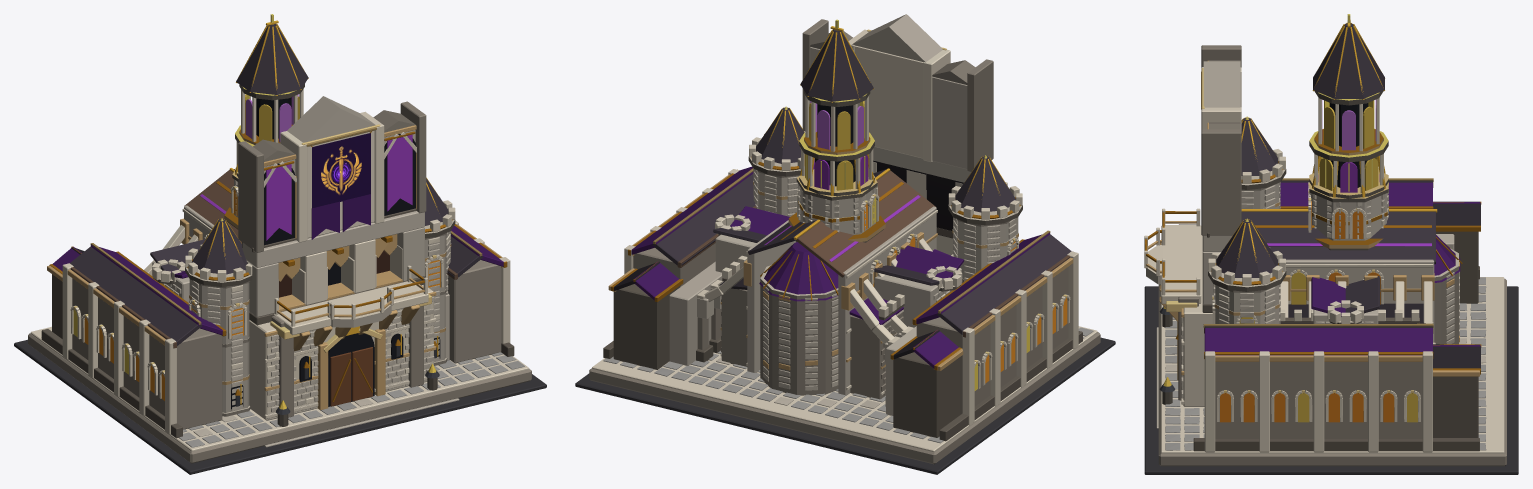
3 renders of one model, left to right at view 1: azimuth 30°, elevation 25°; view 2: azimuth 150°, elevation 25°; view 3: azimuth 270°, elevation 25°, orthographic. The views are drawn at different scales.
Visible parts, largest first — view 1: WK_GrandCovenantCathedral_LOD0_High_Architecture, WK_GrandCovenantCathedral_LOD0_High_CanonicalEmblem; view 2: WK_GrandCovenantCathedral_LOD0_High_Architecture; view 3: WK_GrandCovenantCathedral_LOD0_High_Architecture.
Part boxes in pixels (x1,y1,x2,y2): WK_GrandCovenantCathedral_LOD0_High_Architecture: (14,14,546,474); WK_GrandCovenantCathedral_LOD0_High_CanonicalEmblem: (312,133,370,208); WK_GrandCovenantCathedral_LOD0_High_Architecture: (575,14,1115,474); WK_GrandCovenantCathedral_LOD0_High_Architecture: (1144,14,1518,474).
Bounding box in the file's own units: 34 × 31.5 × 29.02.
2 materials, 1 textured.
